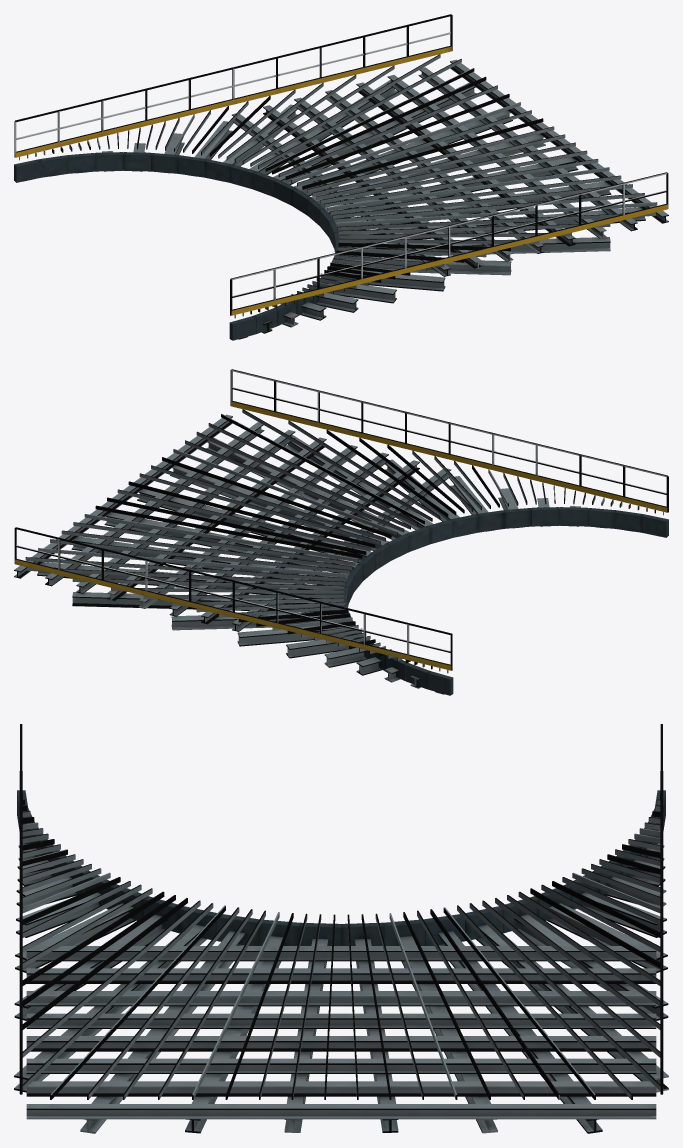
The model's file is platform_v3.glb.
The picture shows the model from 3 angles, top to bottom: view 1: azimuth 30°, elevation 25°; view 2: azimuth 150°, elevation 25°; view 3: azimuth 270°, elevation 25°; orthographic projection. The views are drawn at different scales.
Parts seen in each view (by area): view 1: body; view 2: body; view 3: body.
Part boxes in pixels (x1,y1,x2,y2): body: [14, 14, 668, 340]; body: [14, 369, 668, 695]; body: [14, 724, 668, 1133].
Bounding box in the file's own units: 14.13 × 1.92 × 12.27.
Materials: 1 (1 with a texture image).
